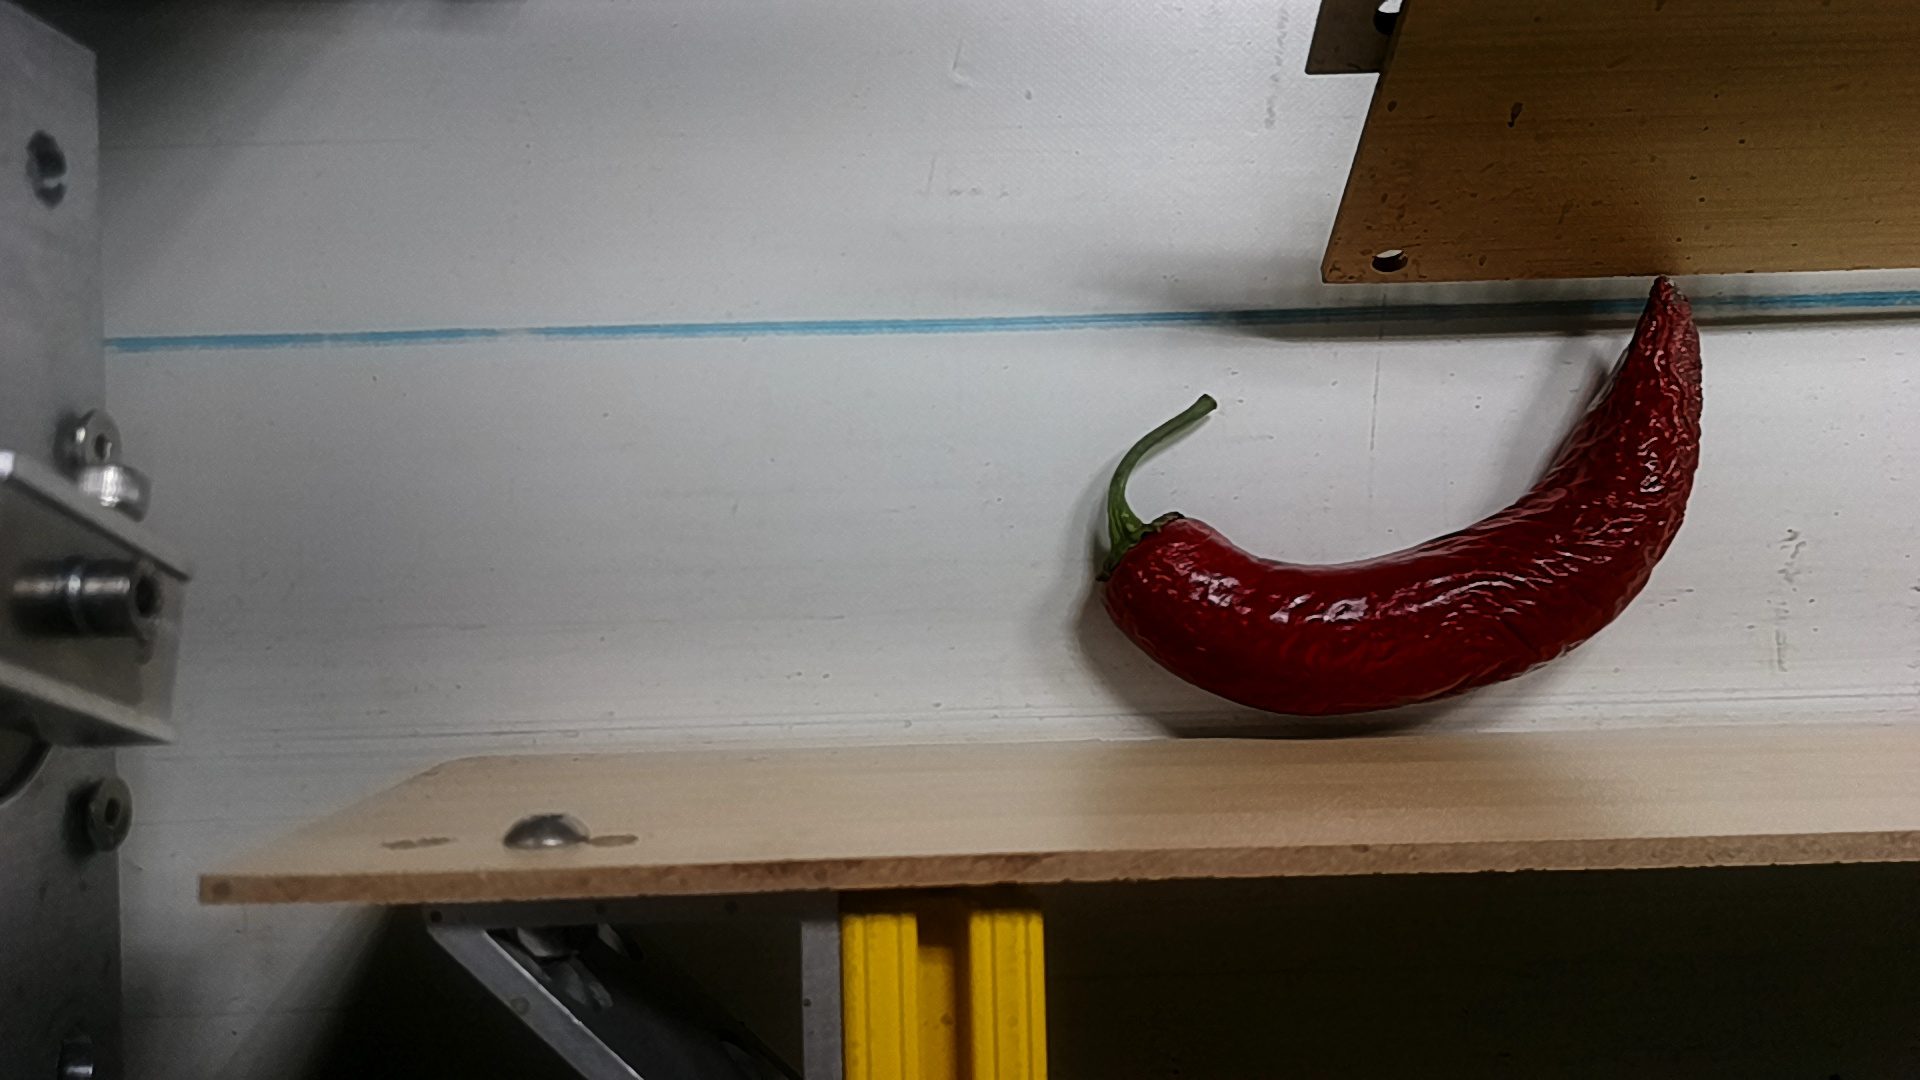Cut Point: (1076, 487, 1236, 625)
